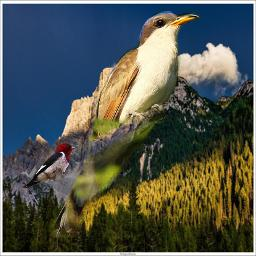Cuckoo: (48, 7, 203, 242)
Woodpecker: (20, 142, 80, 188)
